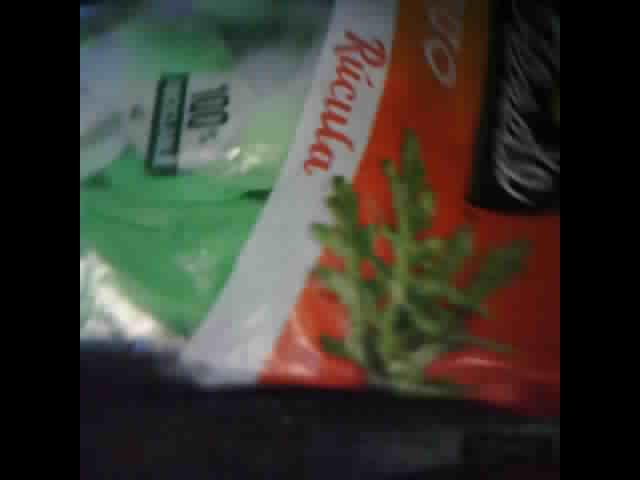florette: (88, 3, 557, 422)
